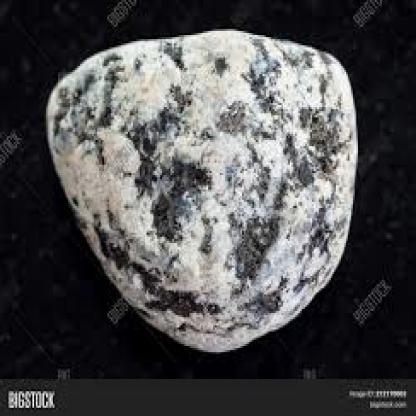Igneous_Diorite: (40, 27, 362, 356)
